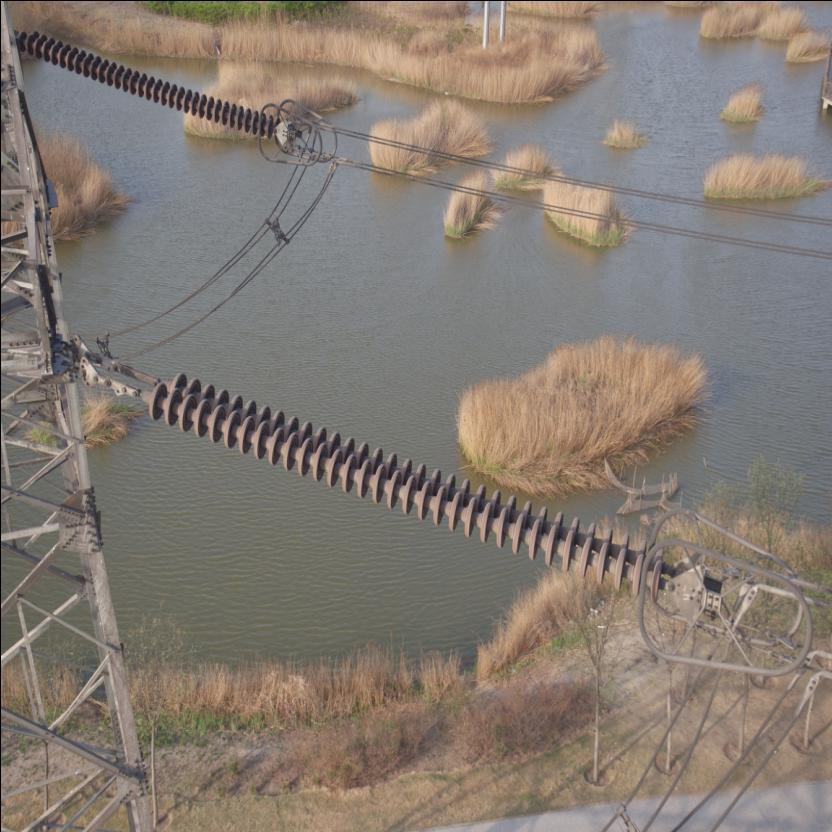insulator: (115, 361, 687, 604), (13, 21, 284, 140)
